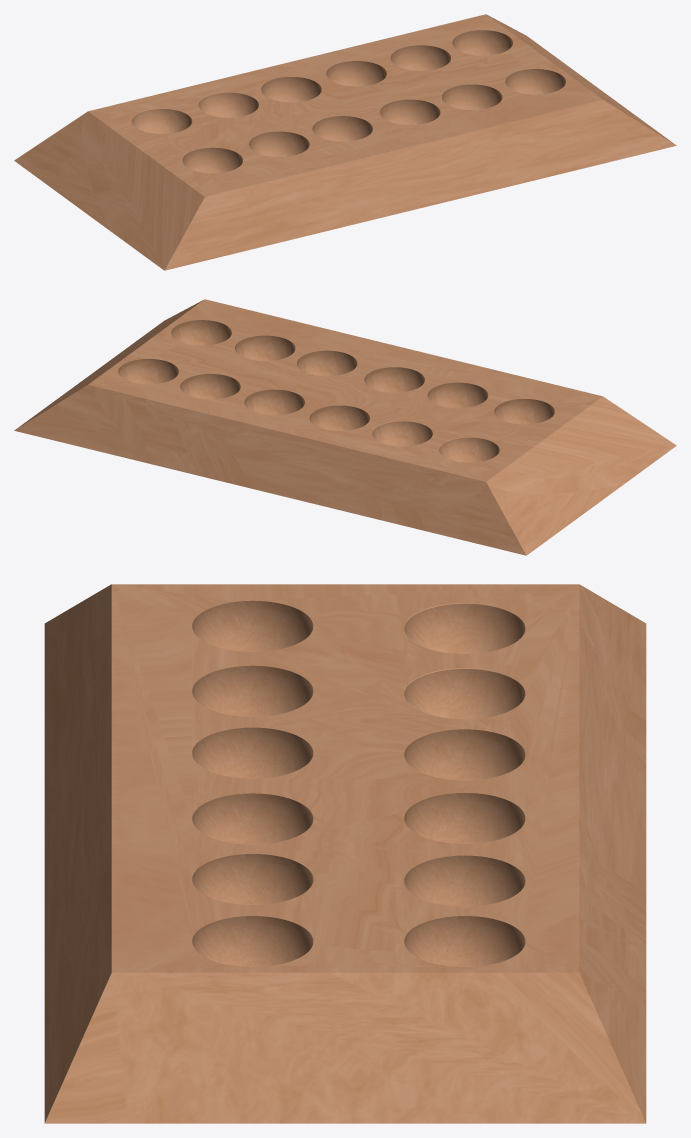
Rendered from test3_gltf.gltf.
3 renders of one model, top to bottom at view 1: azimuth 30°, elevation 25°; view 2: azimuth 150°, elevation 25°; view 3: azimuth 270°, elevation 25°, orthographic. The views are drawn at different scales.
Parts seen in each view (by area): view 1: Cube; view 2: Cube; view 3: Cube.
Boxes of the visible parts, x1=… form: Cube: x1=14, y1=14, x2=676, y2=270; Cube: x1=14, y1=299, x2=676, y2=555; Cube: x1=44, y1=584, x2=646, y2=1123.
Size of the model in its own units: 9.01 by 0.8 by 4.58.
Materials: 1 (1 with a texture image).
